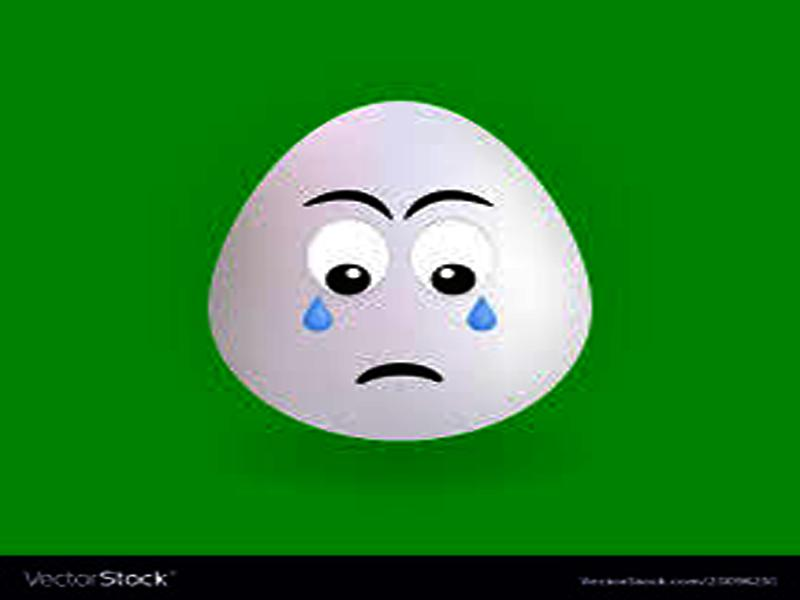Eggs: (204, 103, 589, 440)
